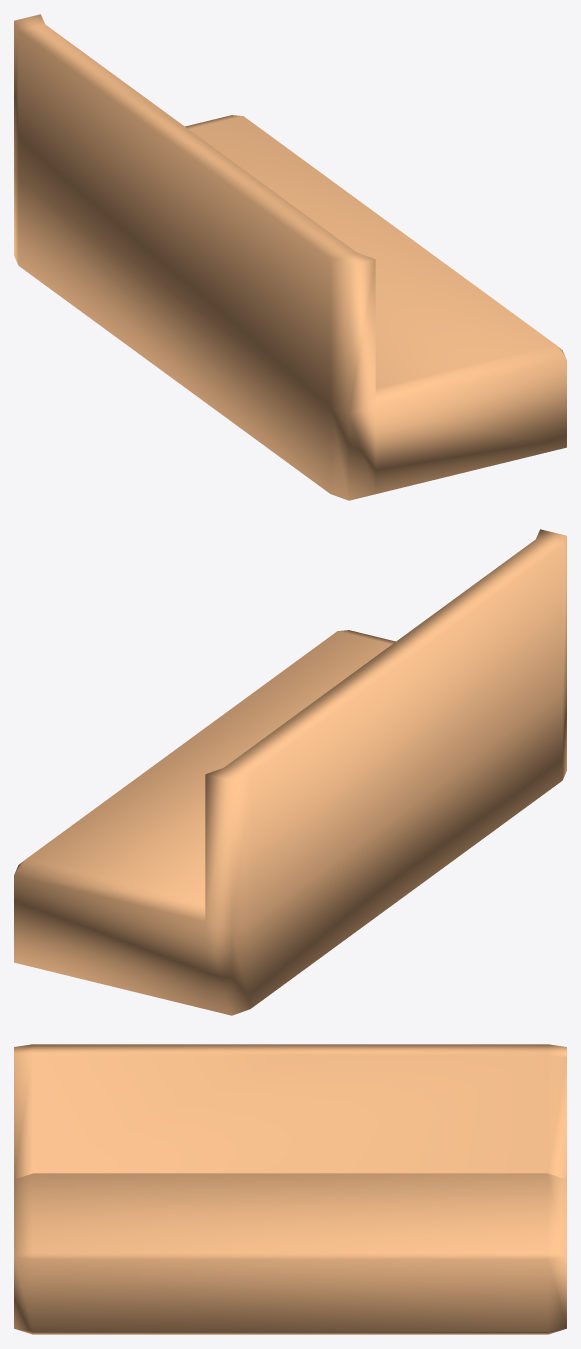
Rendered from sofa1.fbx.
3 views of the same model, one above another, from view 1: azimuth 30°, elevation 25°; view 2: azimuth 150°, elevation 25°; view 3: azimuth 270°, elevation 25° (orthographic). The views are drawn at different scales.
Visible parts, largest first — view 1: sofa; view 2: sofa; view 3: sofa.
Part boxes in pixels (x1,y1,x2,y2): sofa: (14, 14, 566, 500); sofa: (14, 529, 566, 1015); sofa: (14, 1044, 566, 1334).
Bounding box in the file's own units: 226 × 225 × 565.
